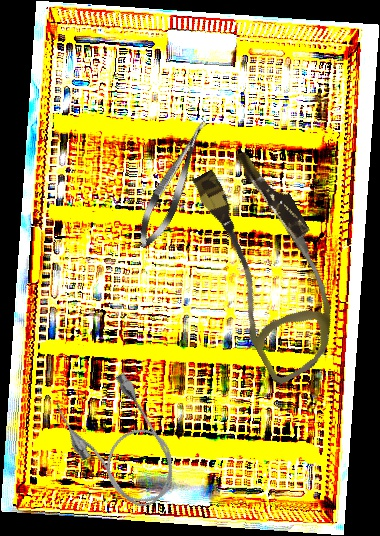Cannula: (169, 141, 369, 388), (47, 363, 193, 524)
Micro Scissor: (130, 114, 217, 254)
